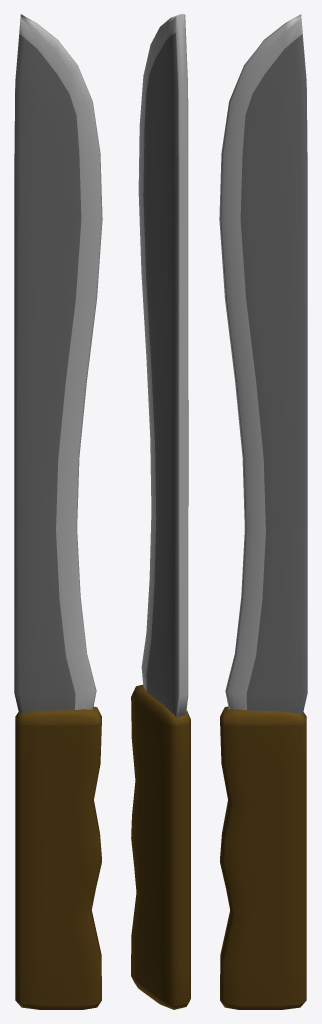
File: bolo.fbx
3 views of the same model, side by side, from view 1: azimuth 90°, elevation 25°; view 2: azimuth 210°, elevation 25°; view 3: azimuth 270°, elevation 25° (orthographic).
Parts seen in each view (by area): view 1: bolo; view 2: bolo; view 3: bolo.
Boxes of the visible parts, bbox=[...] form: bolo: bbox=[14, 14, 102, 1009]; bolo: bbox=[131, 14, 190, 1009]; bolo: bbox=[219, 14, 307, 1009].
Size of the model in its own units: 0.0655 by 2.51 by 0.202.
